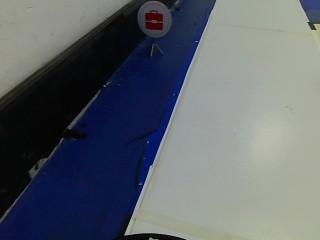company: (133, 1, 172, 36)
